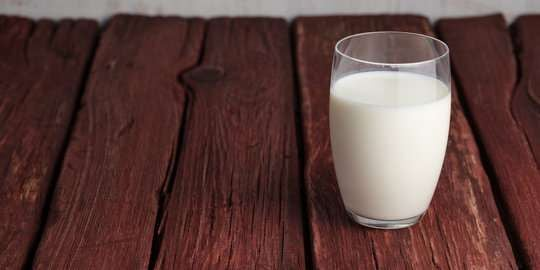produk_susu: (341, 37, 431, 212)
